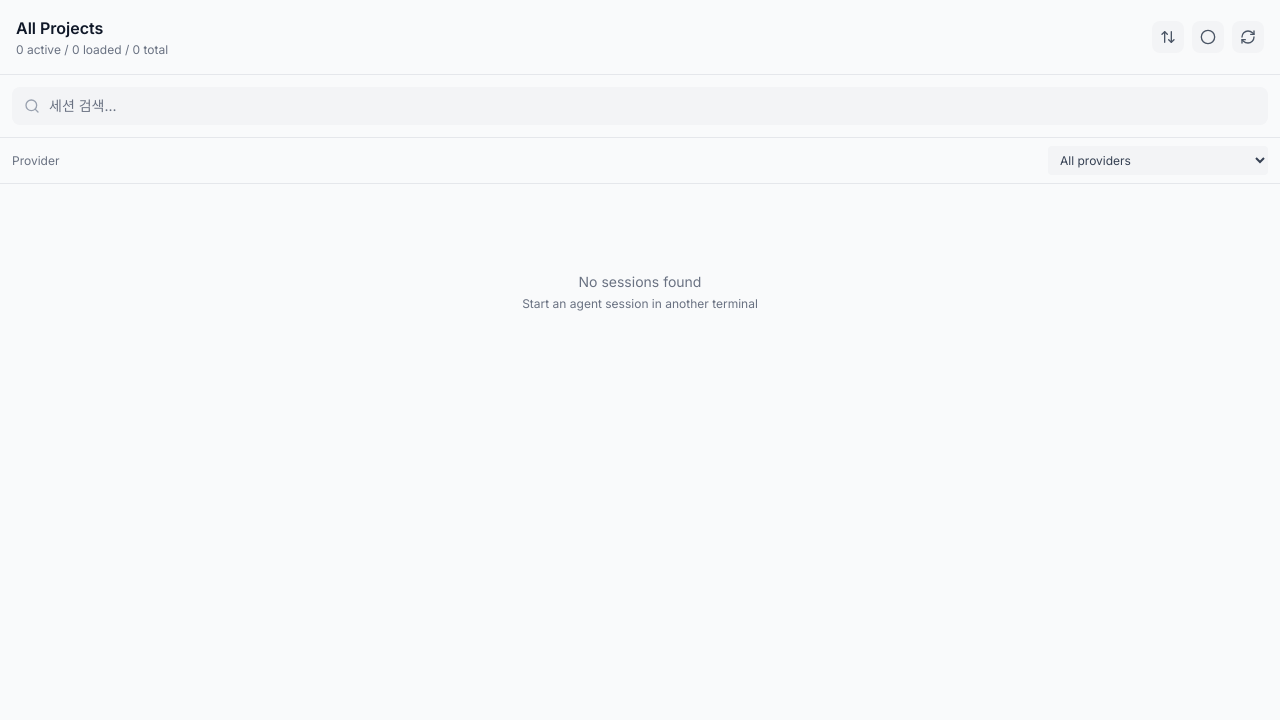
SessionList › sort dropdown › closes sort menu on outside click
Click the button titled "정렬:": x=1168, y=37 [1152,21,1184,53]
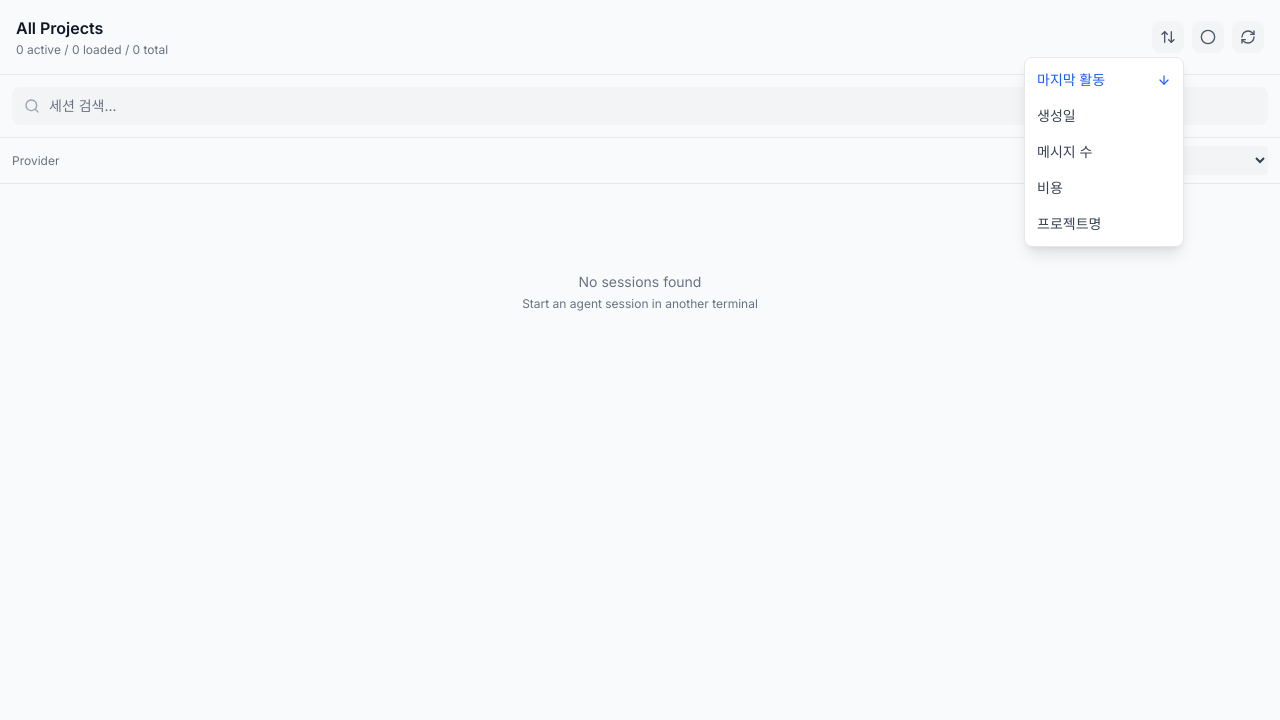
expect the text "생성일" is shown: met, box [1037,106,1076,126]
// Click outside (mousedown on document body)
Press the mouse on the element that starts with "All Projects": x=640, y=360 [0,0,1279,719]
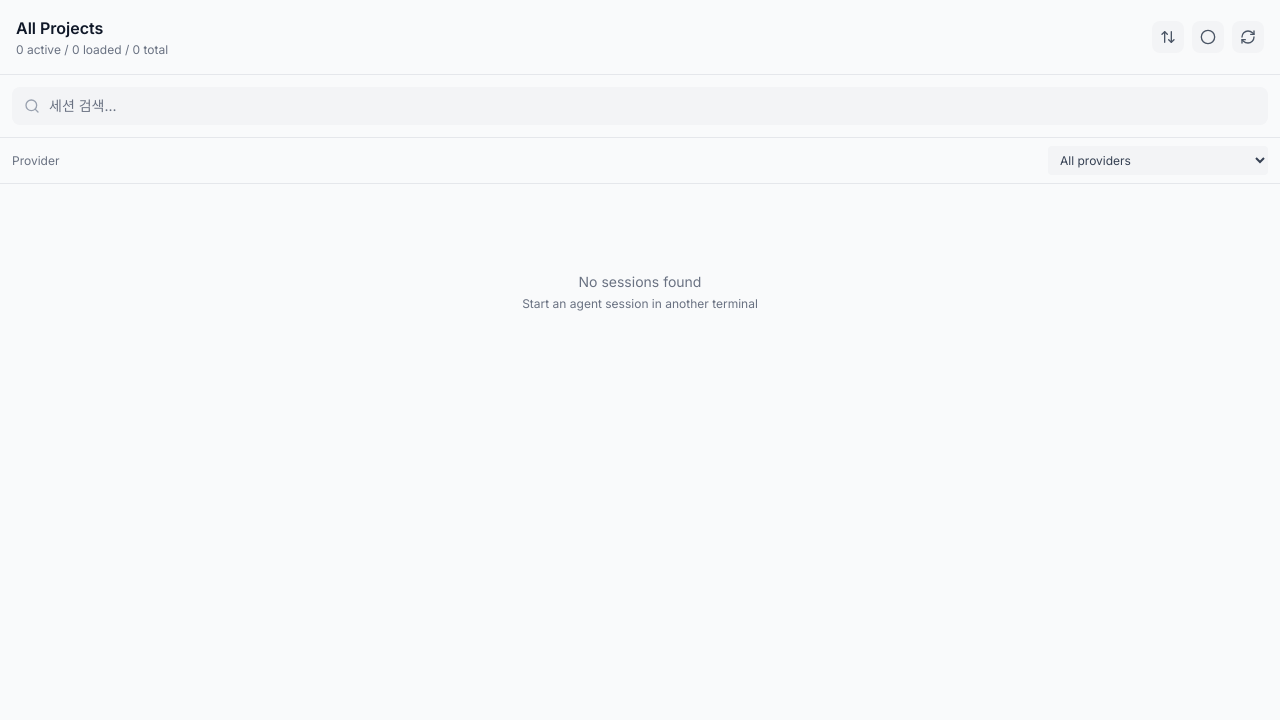
expect the button "생성일" is gone: met
